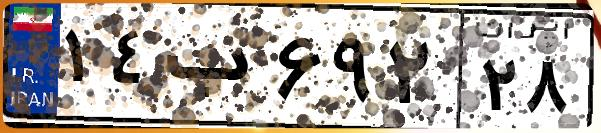1: (57, 26, 110, 100)
2: (385, 28, 445, 110), (475, 38, 525, 113)
4: (110, 28, 158, 98)
6: (270, 28, 330, 110)
8: (525, 38, 570, 115)
9: (330, 28, 385, 110)
ب: (158, 20, 270, 120)
